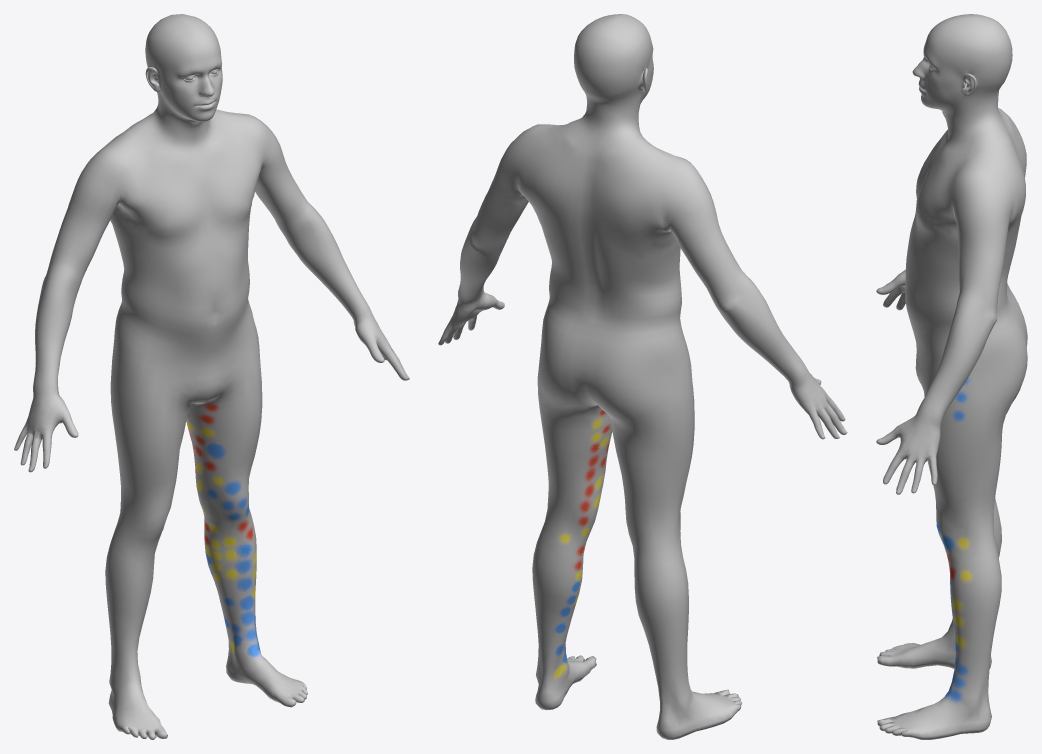
Rendered from 1135018-layingdown-red+yellow+blue.gltf.
The picture shows the model from 3 angles, left to right: view 1: azimuth 30°, elevation 25°; view 2: azimuth 150°, elevation 25°; view 3: azimuth 270°, elevation 25°; orthographic projection. The views are drawn at different scales.
Parts seen in each view (by area): view 1: Male 68in 160lbs-A-pose; view 2: Male 68in 160lbs-A-pose; view 3: Male 68in 160lbs-A-pose.
Part boxes in pixels (box(x1,y1,x2,y2)): Male 68in 160lbs-A-pose: box(14, 14, 409, 739); Male 68in 160lbs-A-pose: box(438, 14, 847, 739); Male 68in 160lbs-A-pose: box(876, 14, 1027, 739).
Bounding box in the file's own units: 4.32 × 7.33 × 1.47.
Materials: 1 (1 with a texture image).
